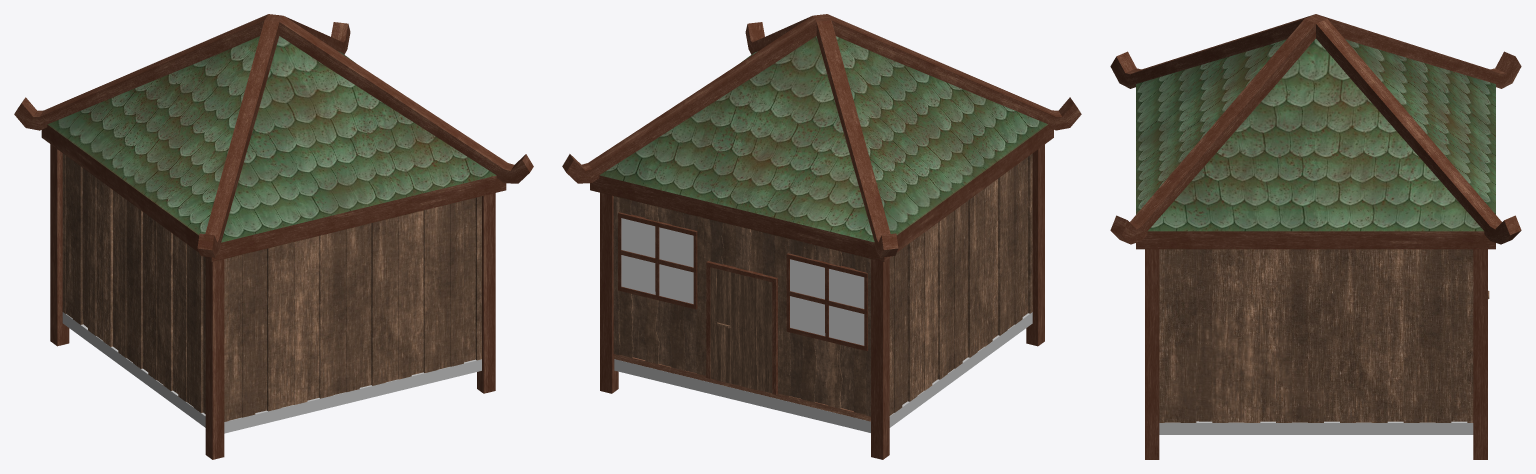
The model's file is Casa.fbx.
The picture shows the model from 3 angles, left to right: view 1: azimuth 30°, elevation 25°; view 2: azimuth 150°, elevation 25°; view 3: azimuth 270°, elevation 25°; orthographic projection. The views are drawn at different scales.
Parts seen in each view (by area): view 1: Tejado, Pared_2, Pared_1, Soporte_tejado, Suelo, Pilar_3, Pilar_2, Pilar_5; view 2: Tejado, Pared_1, pared, Soporte_tejado, Puerta, Suelo, marco (×2), Pilar_5, Pilar_1, Pilar_3, cristal3 (×2), cristal4 (×2) (+3 smaller); view 3: Tejado, Pared_3, Soporte_tejado, Suelo, Pilar_2, Pilar_1.
Part boxes in pixels (bbox=[...]): Tejado: bbox=[41, 36, 506, 261]; Pared_2: bbox=[224, 196, 481, 421]; Pared_1: bbox=[62, 153, 205, 413]; Soporte_tejado: bbox=[14, 14, 533, 257]; Suelo: bbox=[62, 312, 481, 433]; Pilar_3: bbox=[205, 258, 224, 459]; Pilar_2: bbox=[477, 193, 495, 393]; Pilar_5: bbox=[50, 144, 69, 346]; Tejado: bbox=[590, 36, 1053, 261]; Pared_1: bbox=[889, 153, 1032, 415]; pared: bbox=[613, 196, 870, 421]; Soporte_tejado: bbox=[562, 14, 1081, 257]; Puerta: bbox=[710, 267, 772, 393]; Suelo: bbox=[614, 312, 1032, 432]; marco (×2): bbox=[618, 212, 867, 350]; Pilar_5: bbox=[871, 258, 889, 459]; Pilar_1: bbox=[600, 192, 618, 393]; Pilar_3: bbox=[1026, 144, 1044, 346]; cristal3 (×2): bbox=[659, 227, 864, 308]; cristal4 (×2): bbox=[659, 264, 864, 345]; Tejado: bbox=[1136, 39, 1495, 249]; Pared_3: bbox=[1159, 249, 1473, 422]; Soporte_tejado: bbox=[1110, 14, 1521, 244]; Suelo: bbox=[1159, 421, 1473, 434]; Pilar_2: bbox=[1145, 249, 1159, 459]; Pilar_1: bbox=[1473, 249, 1487, 459].
Size of the model in its own units: 614 by 607 by 614.
